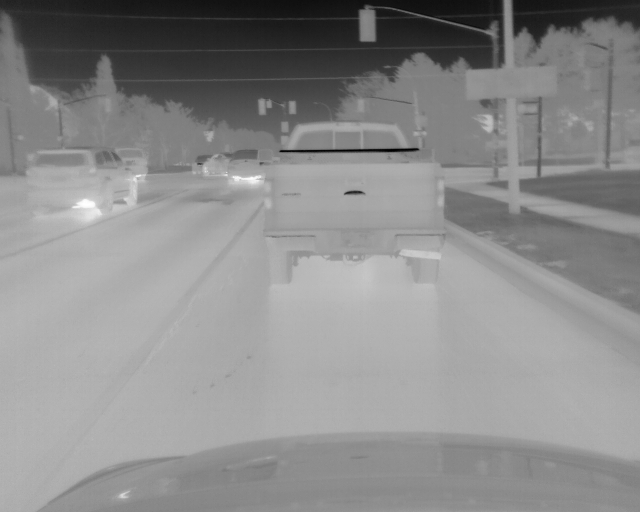car: (261, 120, 445, 284), (28, 145, 138, 217), (227, 145, 273, 183), (116, 146, 149, 184), (202, 150, 232, 178), (190, 153, 214, 176)
